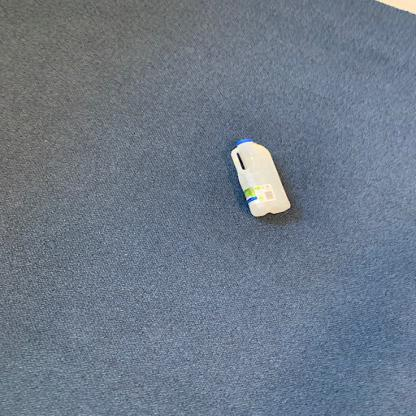trash: (226, 134, 297, 220)
